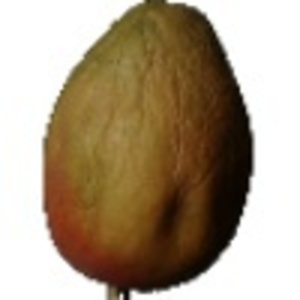mamão: (31, 2, 272, 286)
